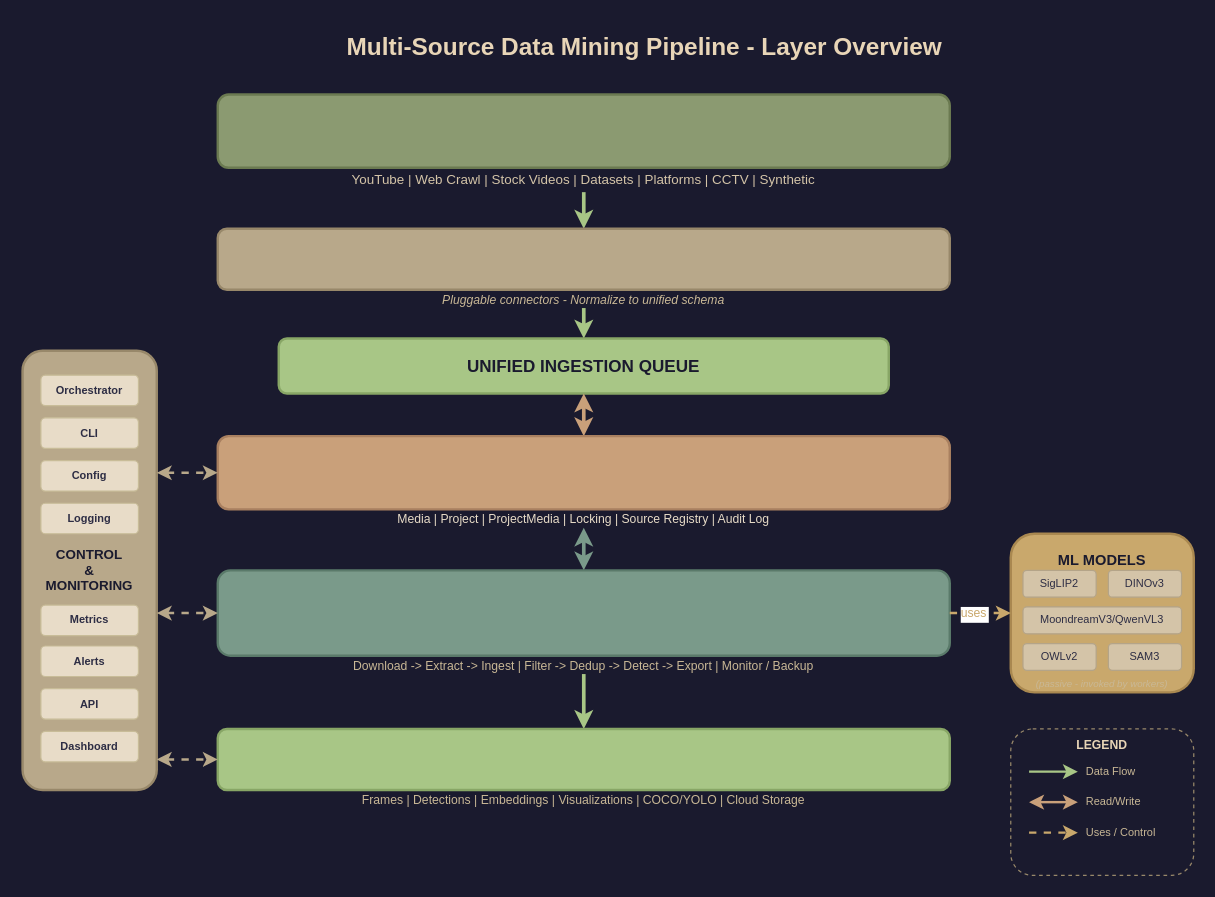
The diagram is 1215 pixels wide and 897 high, and some of its shapes have lost their labels. The centre of each missing label's shape, as x and y in pixels:
DATA SOURCES: point (583, 130)
DISTRIBUTED WORKERS: point (583, 612)
OUTPUTS & EXPORTS: point (583, 759)
POSTGRESQL DATABASE: point (583, 472)
SOURCE ADAPTERS: point (583, 258)
